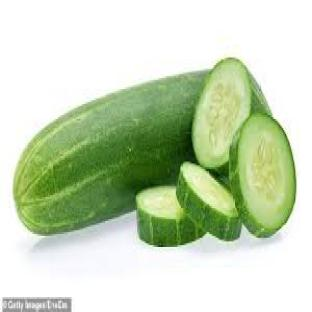Cucumber: (14, 71, 206, 233), (193, 58, 270, 172), (229, 114, 296, 237), (177, 162, 241, 241), (137, 186, 203, 246)
